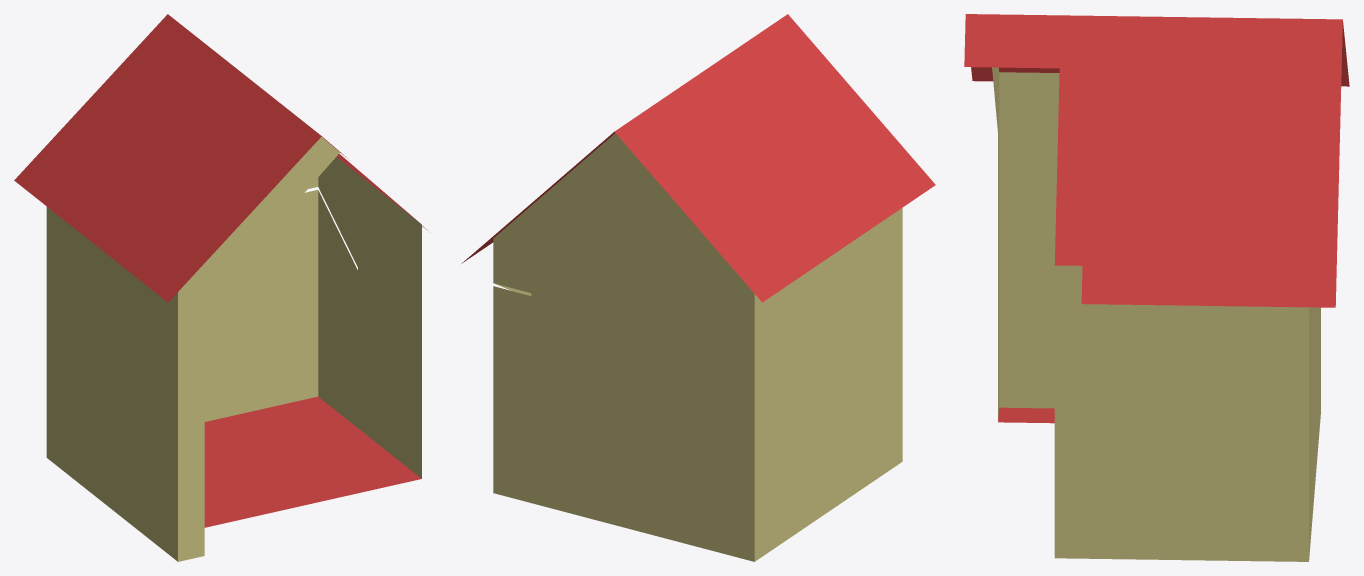
The picture shows the model from 3 angles, left to right: view 1: azimuth 30°, elevation 25°; view 2: azimuth 150°, elevation 25°; view 3: azimuth 270°, elevation 25°; orthographic projection. The views are drawn at different scales.
Size of the model in its own units: 11.43 by 10.43 by 13.92.
